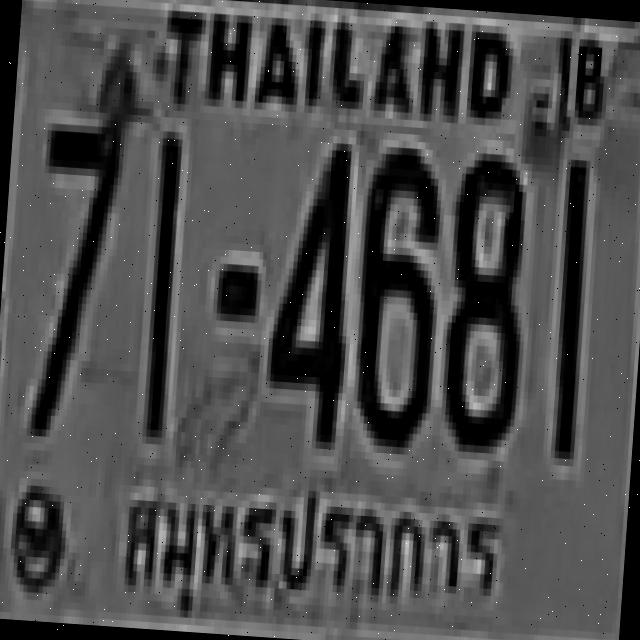1: (544, 152, 592, 452), (138, 130, 182, 438), (138, 126, 179, 434)
4: (262, 132, 356, 442)
6: (347, 138, 441, 441)
7: (27, 101, 126, 434)
8: (435, 144, 529, 447)
SamutPrakan: (111, 455, 513, 640)
